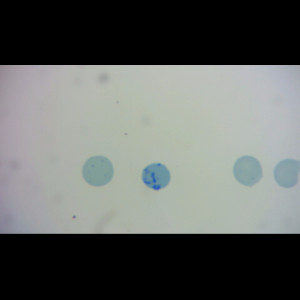aggregate reticulocyte: (140, 162, 172, 191)
erythrocyte: (273, 158, 300, 189)
punctate reticulocyte: (80, 154, 115, 187), (232, 153, 264, 186)
